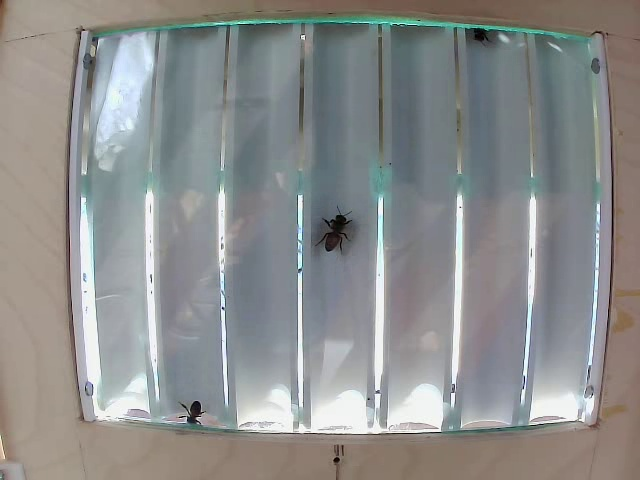bee: (311, 207, 364, 264)
